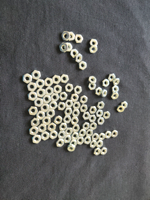nut: (22, 74, 33, 84), (61, 31, 71, 41), (40, 103, 50, 113), (32, 69, 41, 80), (75, 33, 84, 43), (64, 42, 73, 52), (78, 61, 87, 71), (88, 83, 98, 92), (27, 83, 37, 92), (52, 75, 61, 85), (44, 78, 53, 88), (37, 88, 46, 98), (47, 123, 57, 132), (71, 48, 79, 59), (60, 43, 69, 52), (65, 84, 74, 93), (90, 122, 99, 131), (59, 92, 68, 101), (45, 87, 54, 96), (27, 92, 36, 101), (51, 94, 60, 103), (36, 111, 45, 120), (30, 127, 39, 136), (49, 131, 58, 140), (42, 117, 51, 126), (76, 137, 85, 146), (36, 79, 44, 89), (54, 84, 62, 94), (28, 107, 38, 115), (75, 54, 83, 63), (89, 39, 98, 47), (61, 74, 69, 83), (112, 85, 121, 93), (111, 93, 120, 101), (88, 76, 97, 84), (95, 88, 103, 97), (97, 102, 106, 110), (92, 133, 100, 142), (79, 96, 88, 104), (73, 102, 82, 110), (58, 102, 66, 111), (72, 110, 81, 118), (65, 108, 74, 116), (54, 116, 63, 124), (43, 95, 51, 104), (33, 135, 41, 144), (31, 119, 40, 127), (63, 116, 72, 124), (59, 123, 68, 131), (57, 132, 66, 140), (71, 133, 80, 141), (68, 32, 75, 42), (89, 46, 99, 53), (109, 74, 117, 82), (102, 79, 110, 87), (113, 78, 121, 86), (118, 106, 126, 114), (96, 110, 104, 118), (98, 117, 106, 125), (90, 141, 98, 149), (74, 86, 82, 94), (71, 94, 79, 102), (80, 105, 88, 113), (89, 107, 97, 115), (89, 115, 97, 123), (66, 100, 74, 108), (35, 99, 43, 107), (49, 102, 57, 110), (47, 110, 55, 118), (42, 133, 50, 141), (55, 116, 63, 124), (64, 136, 72, 144), (72, 125, 80, 133), (112, 130, 119, 139), (94, 147, 101, 156), (83, 112, 90, 121), (56, 140, 65, 147), (82, 124, 91, 131), (102, 90, 109, 98), (104, 112, 111, 120), (105, 131, 112, 139), (99, 133, 106, 141), (97, 141, 105, 148), (86, 130, 94, 137), (85, 137, 92, 145), (71, 118, 79, 125), (39, 125, 46, 133), (65, 128, 73, 135), (67, 146, 76, 152), (121, 102, 128, 109), (101, 148, 108, 155), (70, 140, 77, 147), (79, 130, 86, 137), (102, 90, 108, 98)
